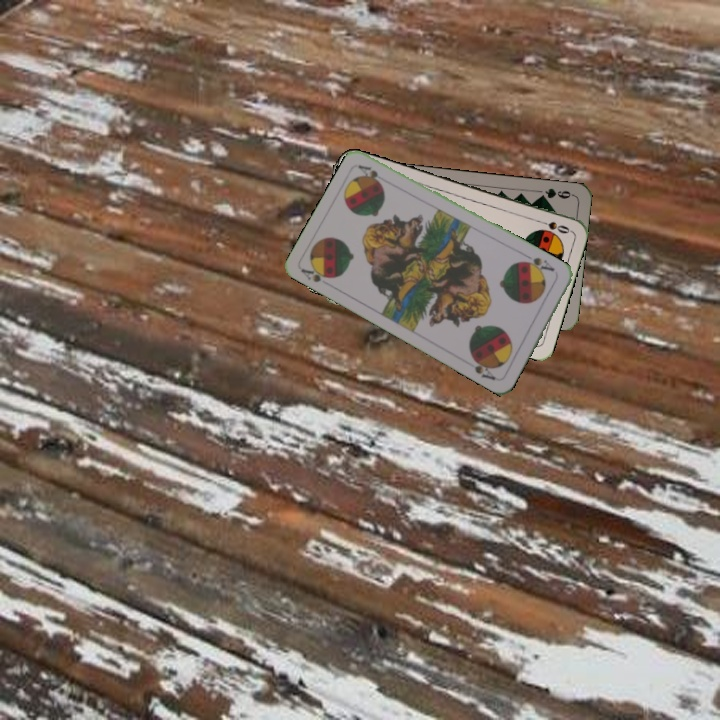G9: (534, 184, 576, 202)
SA: (297, 261, 337, 285), (519, 251, 557, 276)
SO: (533, 216, 573, 236)
